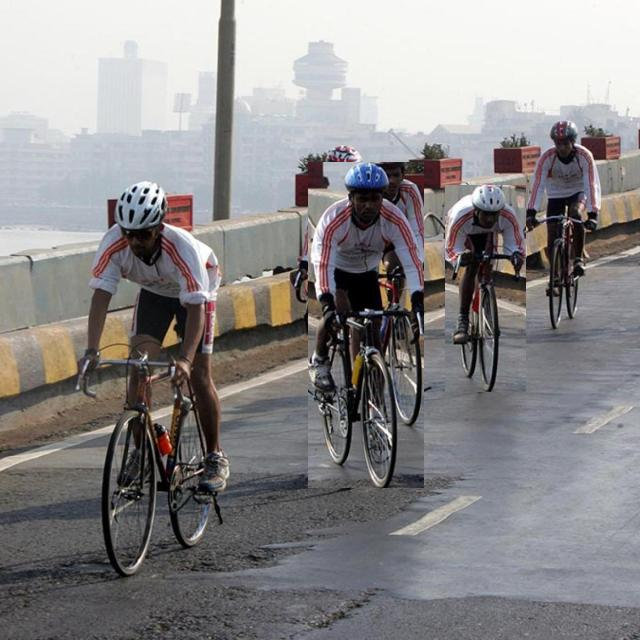bicycle: (77, 183, 230, 579), (308, 163, 424, 488), (445, 185, 525, 392), (525, 122, 600, 331)
